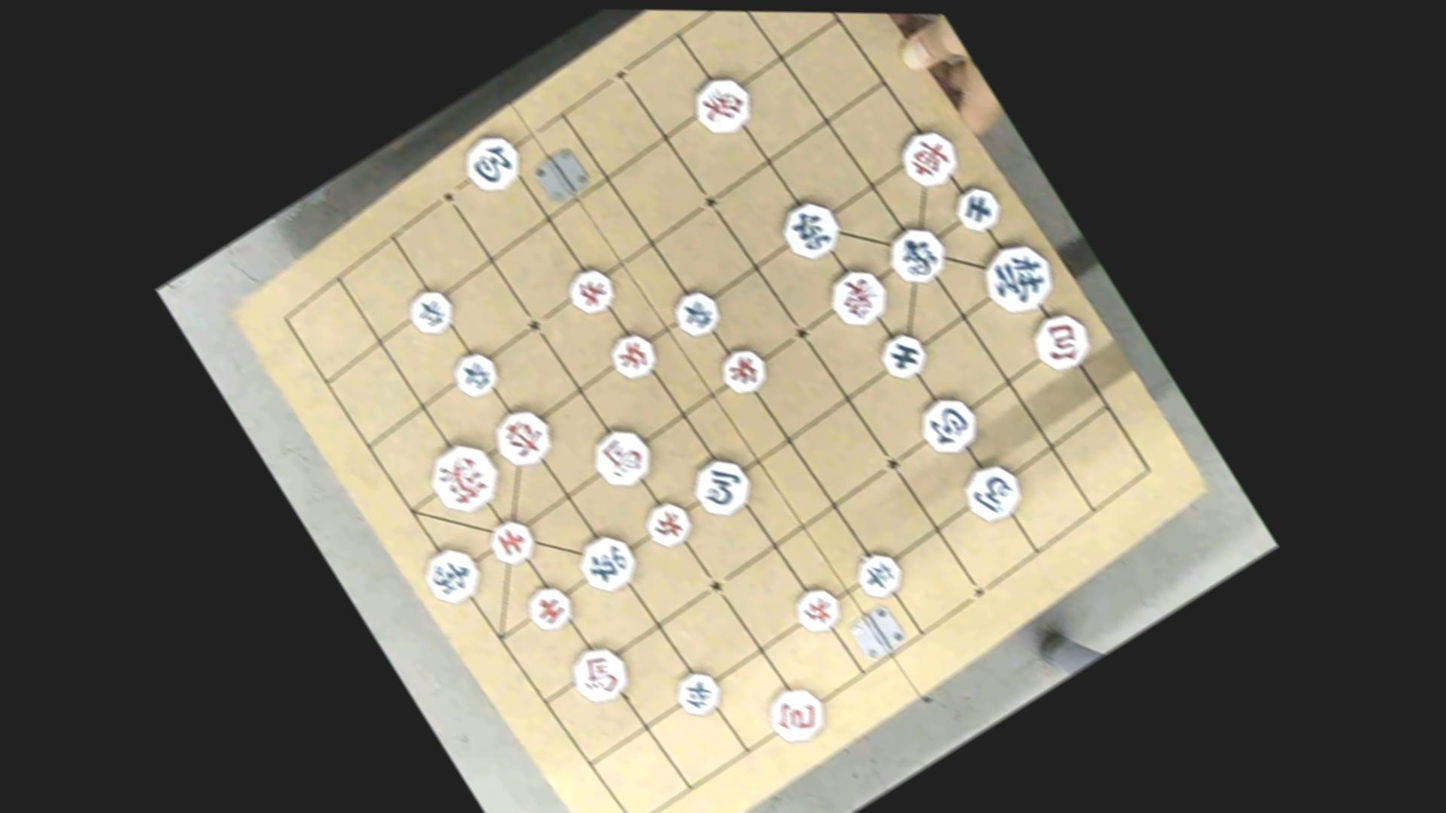cha_green: (770, 189, 851, 270), (572, 528, 646, 601)
cha_red: (483, 396, 563, 476), (891, 118, 966, 196)
jol_green: (665, 282, 729, 343), (849, 544, 909, 605), (399, 279, 459, 339), (670, 662, 728, 720), (447, 343, 505, 401)
jol_red: (711, 336, 777, 402), (786, 575, 849, 640), (636, 493, 697, 554), (562, 260, 622, 321), (604, 325, 663, 385)
ma_green: (955, 452, 1030, 528), (685, 448, 759, 524)
ma_red: (562, 635, 637, 711), (584, 420, 657, 494)
po_green: (909, 386, 986, 463), (455, 125, 531, 202)
po_red: (1022, 302, 1098, 379), (760, 676, 835, 752)
sa_green: (868, 321, 937, 389), (947, 176, 1009, 239)
sa_red: (520, 577, 582, 639), (481, 512, 540, 571)
sang_green: (881, 215, 956, 290), (417, 539, 490, 612)
sang_red: (684, 67, 758, 142), (825, 260, 896, 331)
wang_green: (972, 232, 1063, 324)
wang_red: (419, 430, 511, 521)
